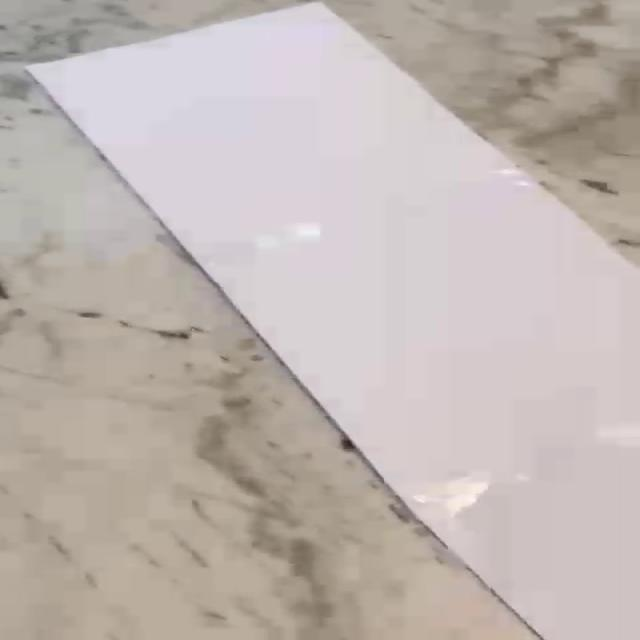road: (28, 4, 639, 640)
